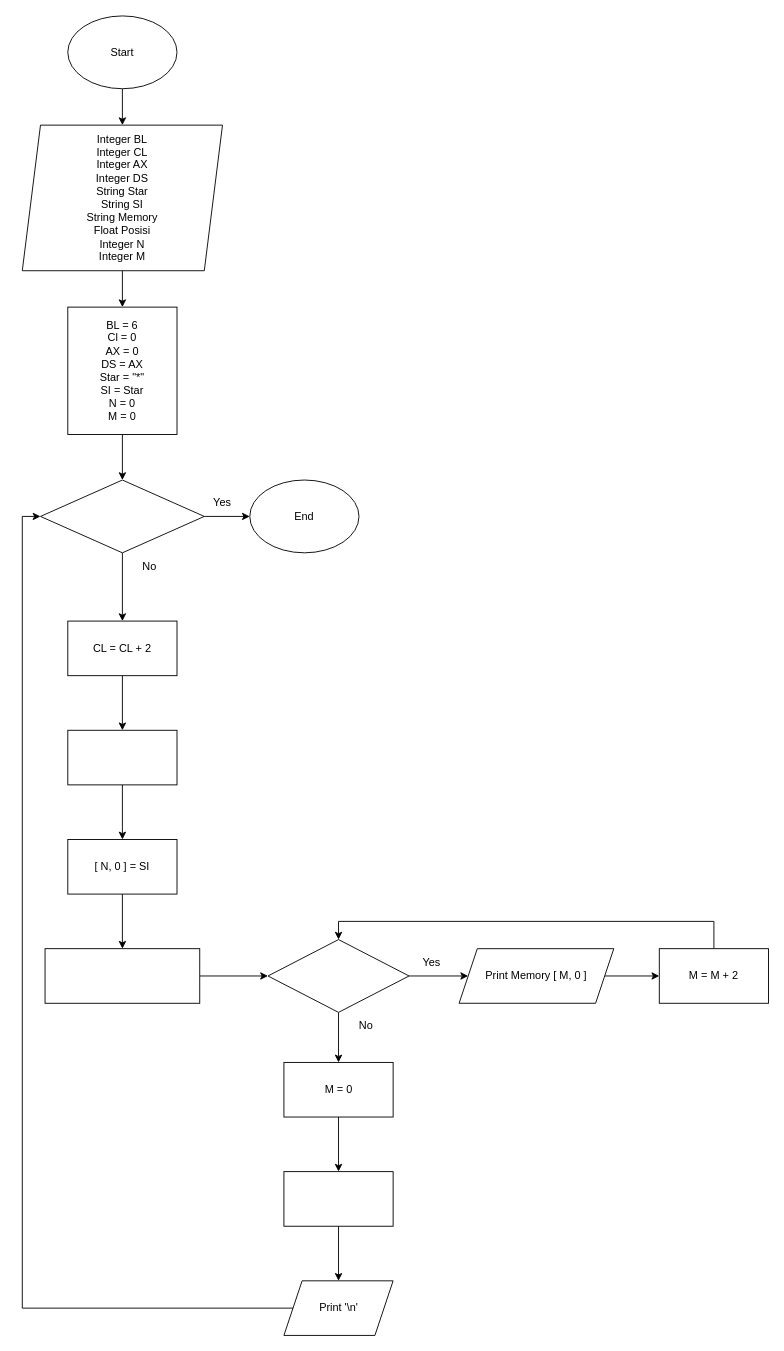
This 784x1351 diagram has some shape labels left out. Each missing label, with the centre of its shape:
If BL == CL: point (122, 516)
If M <= N: point (338, 975)
Memory append Posisi: point (122, 975)
N = N + 2: point (338, 1198)
Posisi = [ N, 0 ]: point (122, 757)
